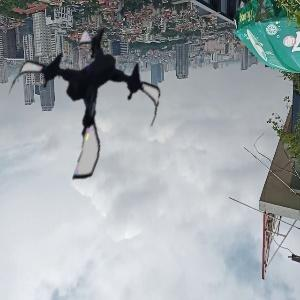drone: (7, 23, 165, 181)
